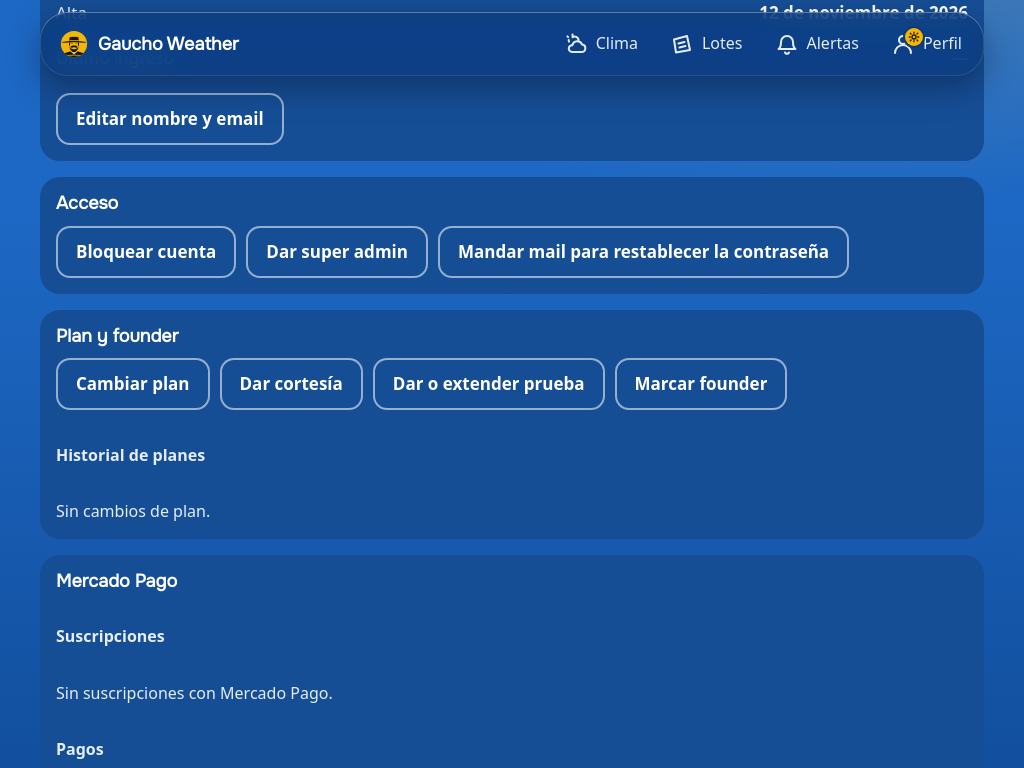
Plan and founder by hand (S3) › shows a past date refused next to the field
(page scrolled)
Click the button "Dar o extender prueba" at (489, 384), box [373, 358, 604, 410]
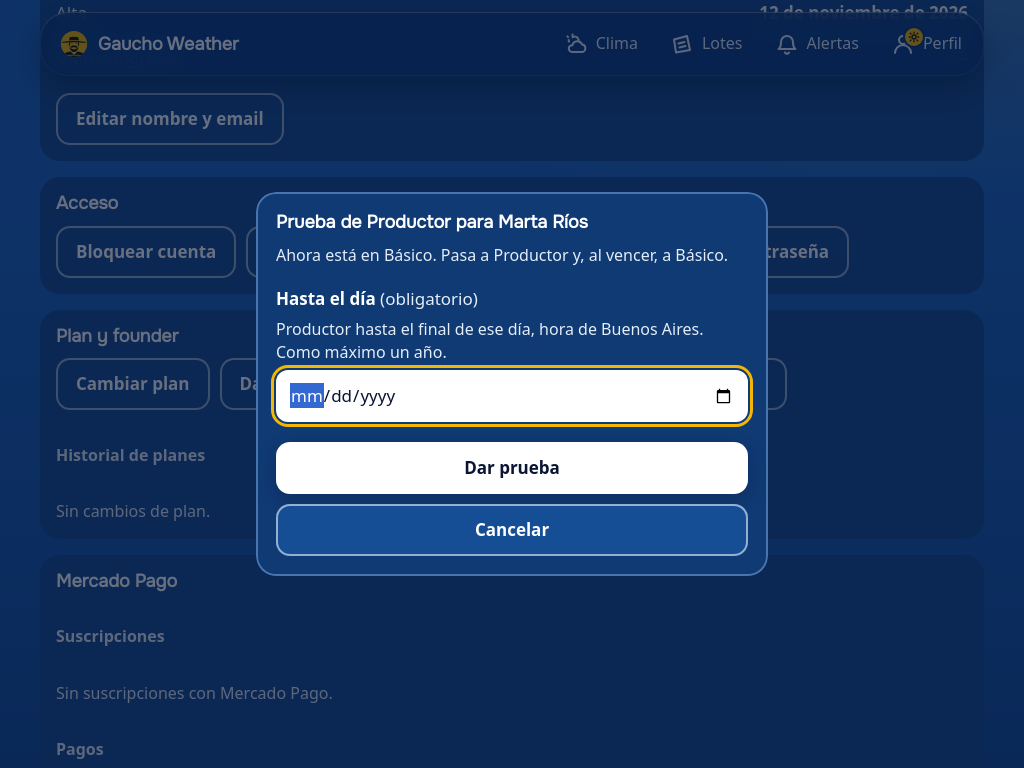
Type "2020-01-01" into the date field labelled "Hasta el día (obligatorio)" at (512, 396), box [276, 370, 748, 422]
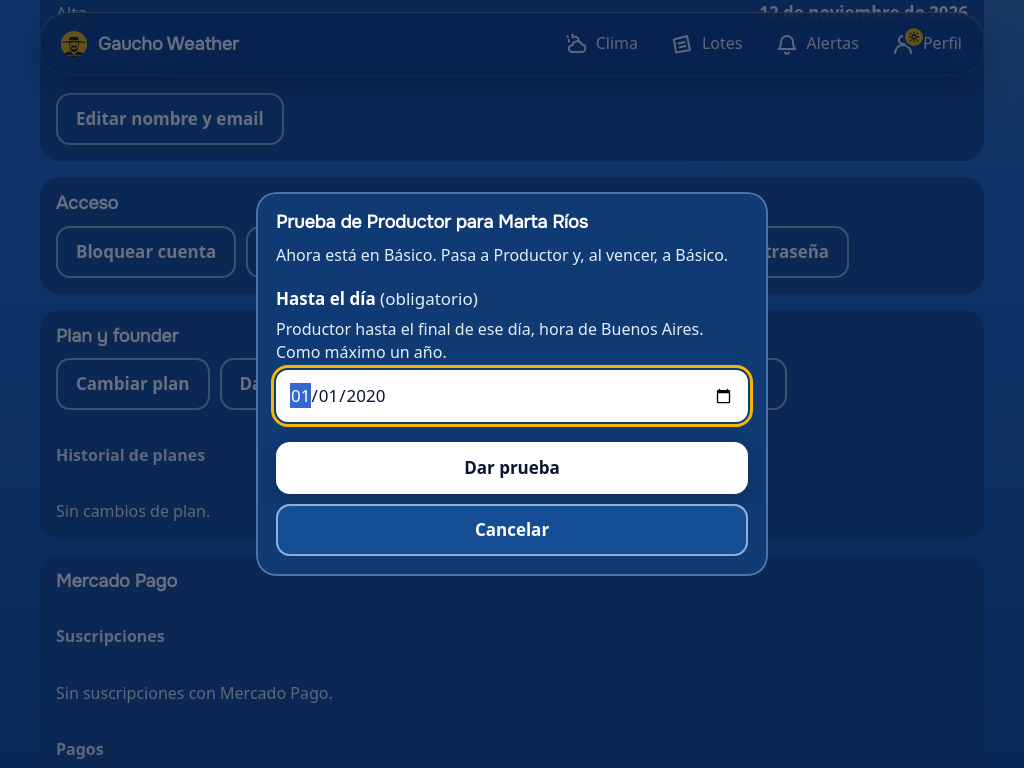
Click the button "Dar prueba" at (512, 468), box [276, 442, 748, 494]
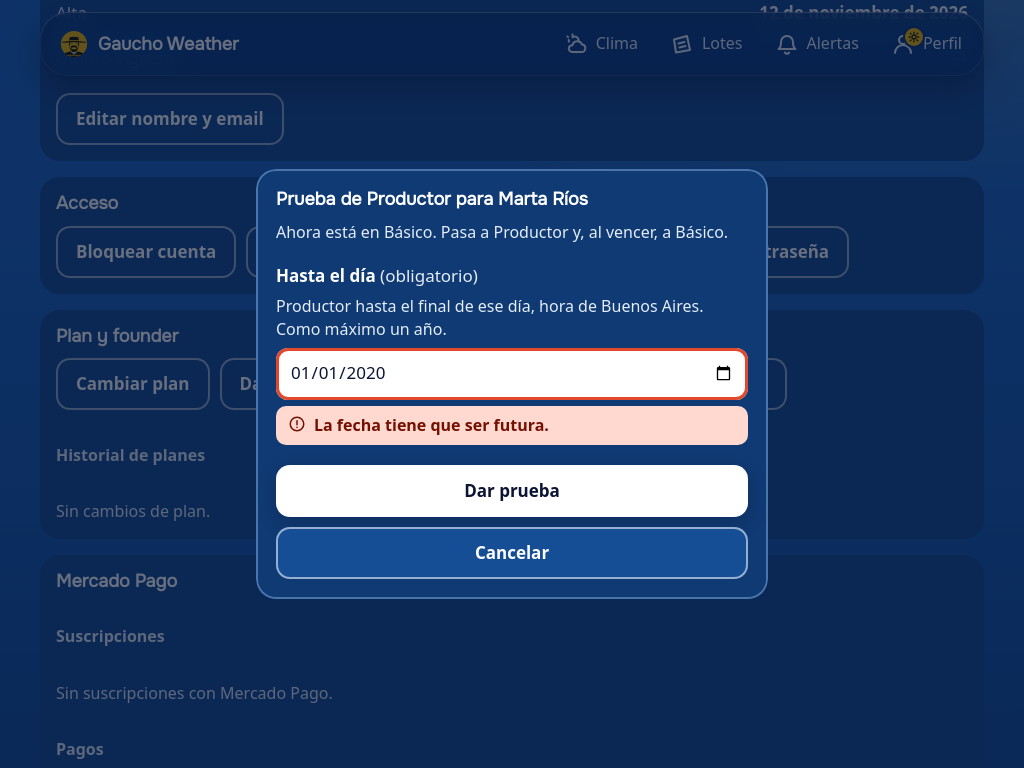
Now the text "La fecha tiene que ser futura." is shown, box [276, 406, 748, 445]
